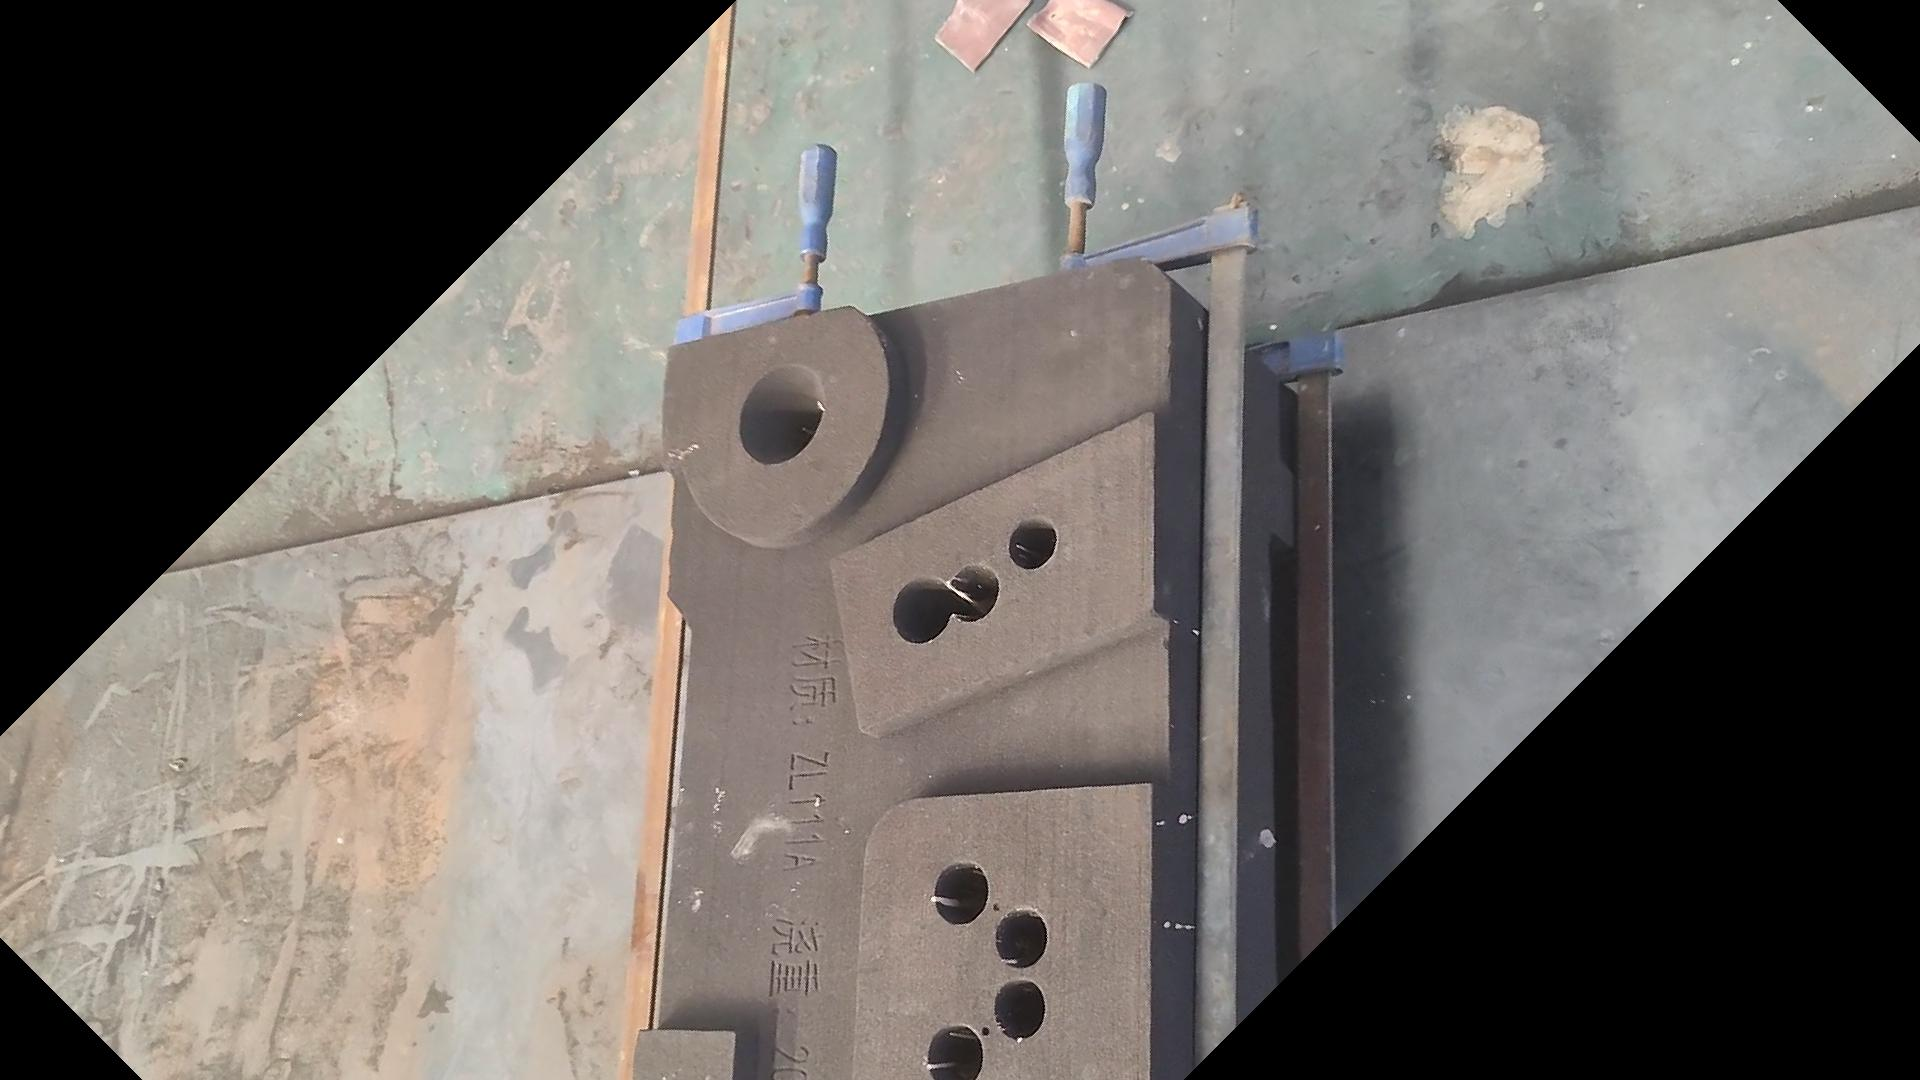pouring hole: (735, 365, 824, 465)
